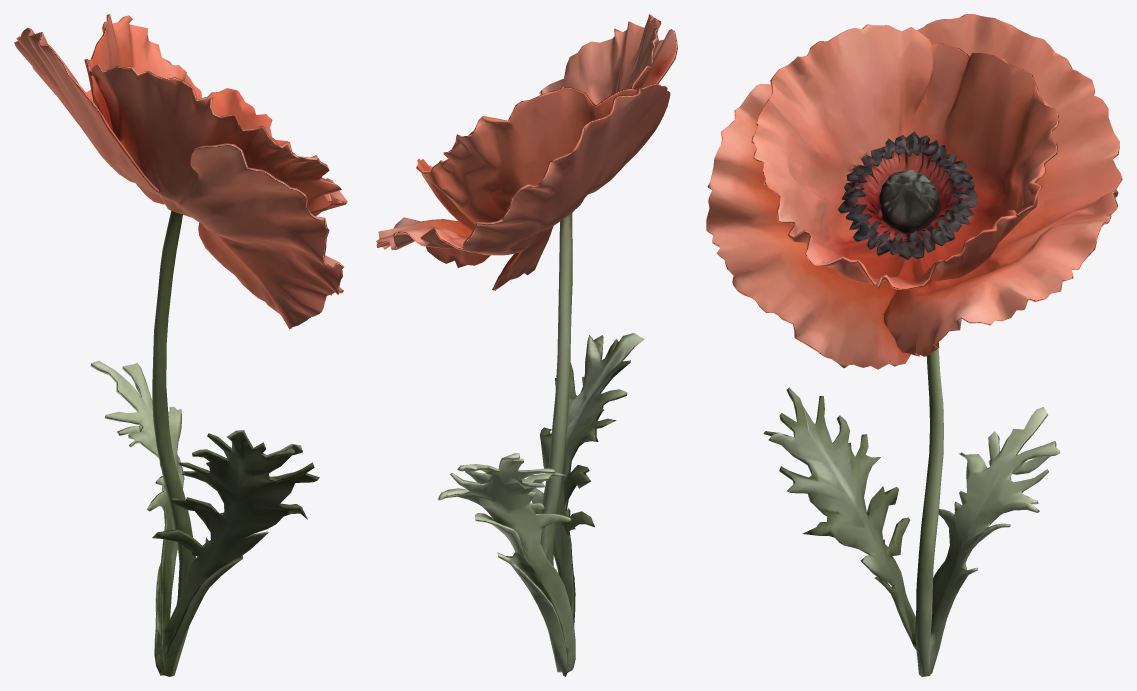
File: poppy-bloom.glb
3 views of the same model, side by side, from view 1: azimuth 30°, elevation 25°; view 2: azimuth 150°, elevation 25°; view 3: azimuth 270°, elevation 25° (orthographic). The views are drawn at different scales.
Parts seen in each view (by area): view 1: tripo_node_01a22146-5f75-722c-a3c7-23cc4602c7f4; view 2: tripo_node_01a22146-5f75-722c-a3c7-23cc4602c7f4; view 3: tripo_node_01a22146-5f75-722c-a3c7-23cc4602c7f4.
Boxes of the visible parts, <box> form: tripo_node_01a22146-5f75-722c-a3c7-23cc4602c7f4: <box>14,14,347,676</box>; tripo_node_01a22146-5f75-722c-a3c7-23cc4602c7f4: <box>376,14,677,676</box>; tripo_node_01a22146-5f75-722c-a3c7-23cc4602c7f4: <box>706,14,1122,676</box>.
Bounding box in the file's own units: 0.409 × 1 × 0.6069.
Materials: 1 (1 with a texture image).
